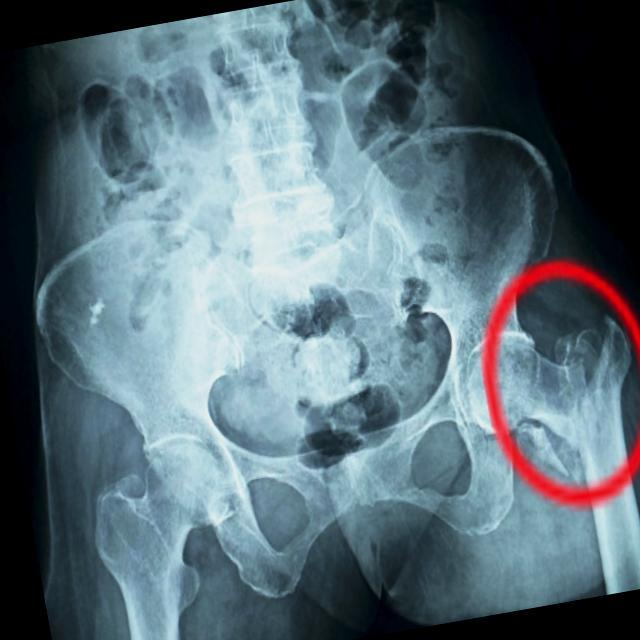Comminuted Fracture: (501, 296, 637, 448)
